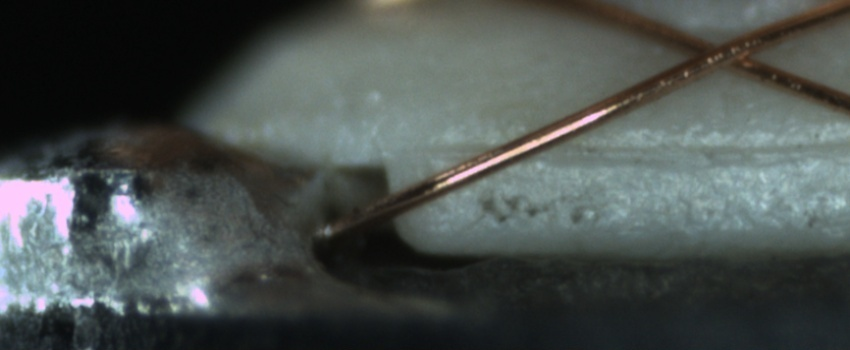CL: (675, 24, 775, 79)
DL: (420, 118, 849, 181)
